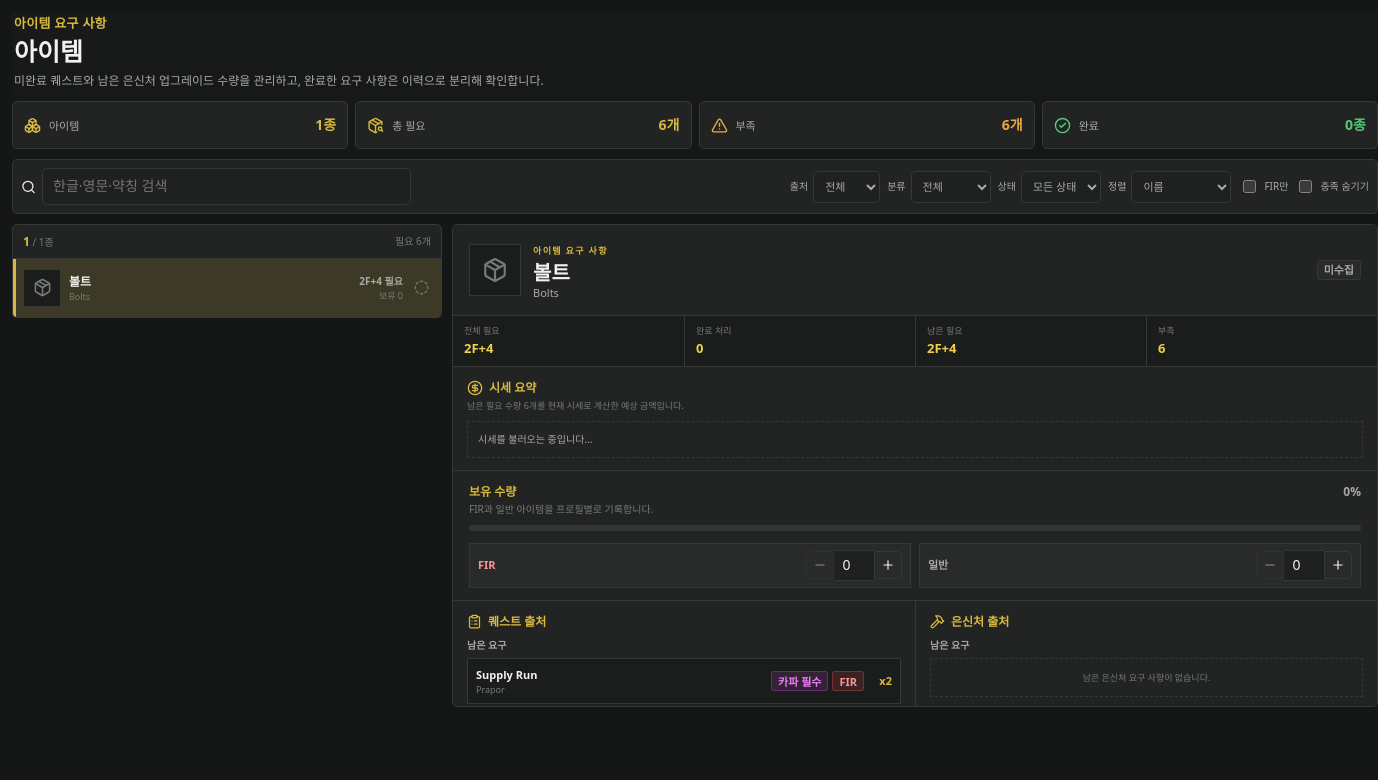
Test: ItemsPage › filters by search without losing the full aggregate
The width and height of the screenshot is (1378, 780).
Type "없는 아이템" into the search field named "아이템 검색".
click(227, 187); type("없는 아이템")  # box [42,168,411,205]
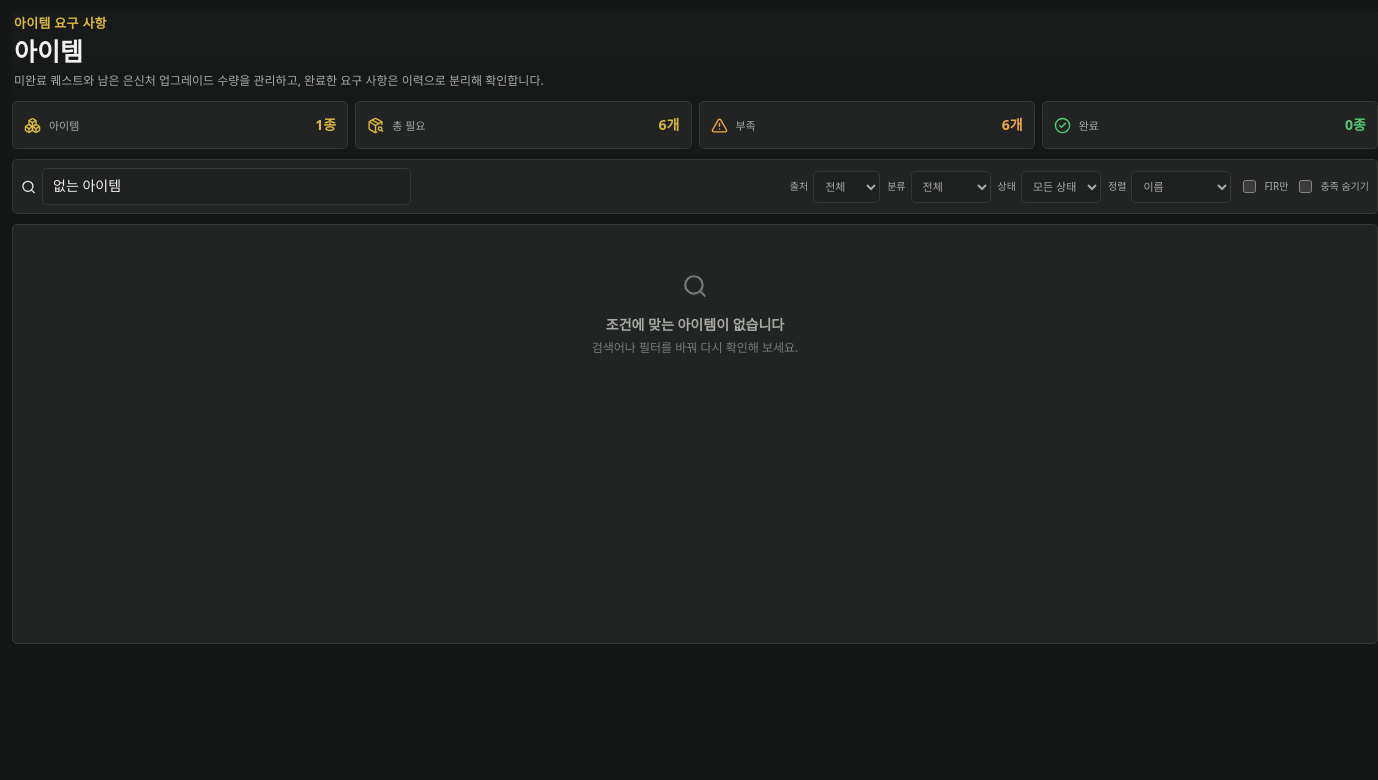
Check: the text "조건에 맞는 아이템이 없습니다" is shown, box [606,315,784,335]
